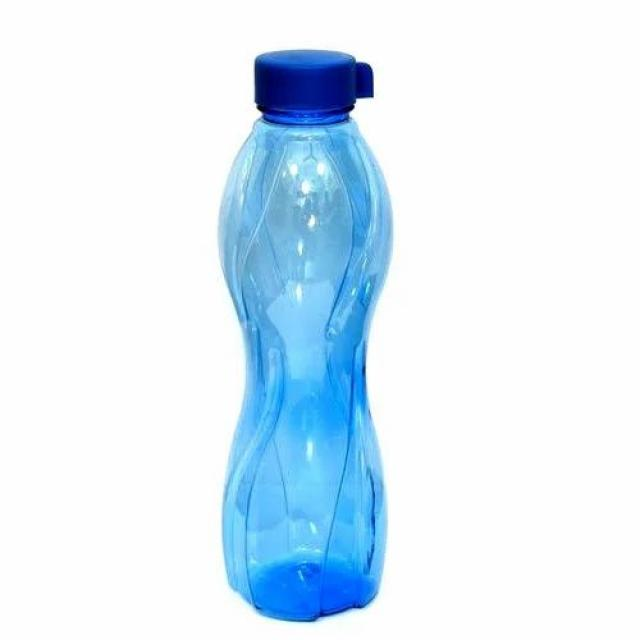plastic_bottle: (205, 32, 426, 636)
